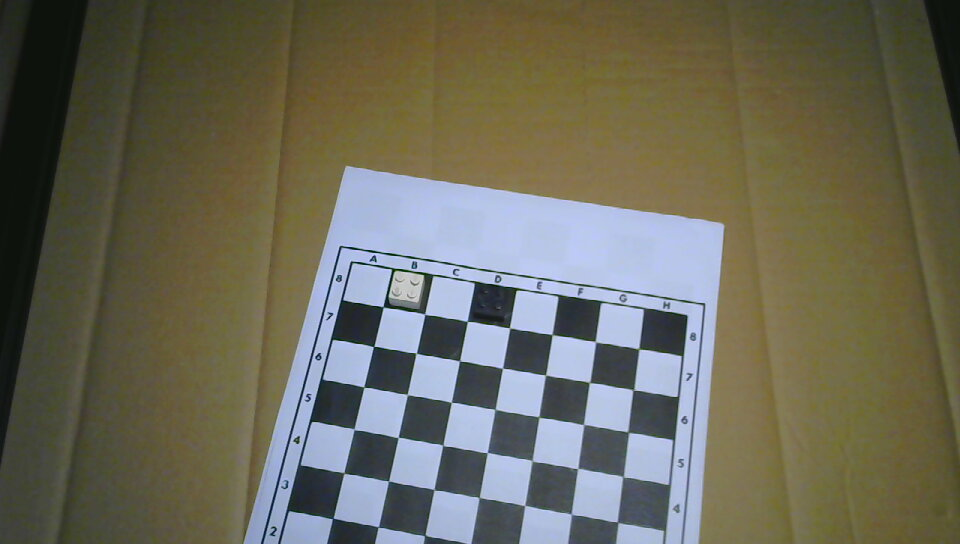bp: (471, 281, 508, 324)
wp: (388, 268, 425, 311)
